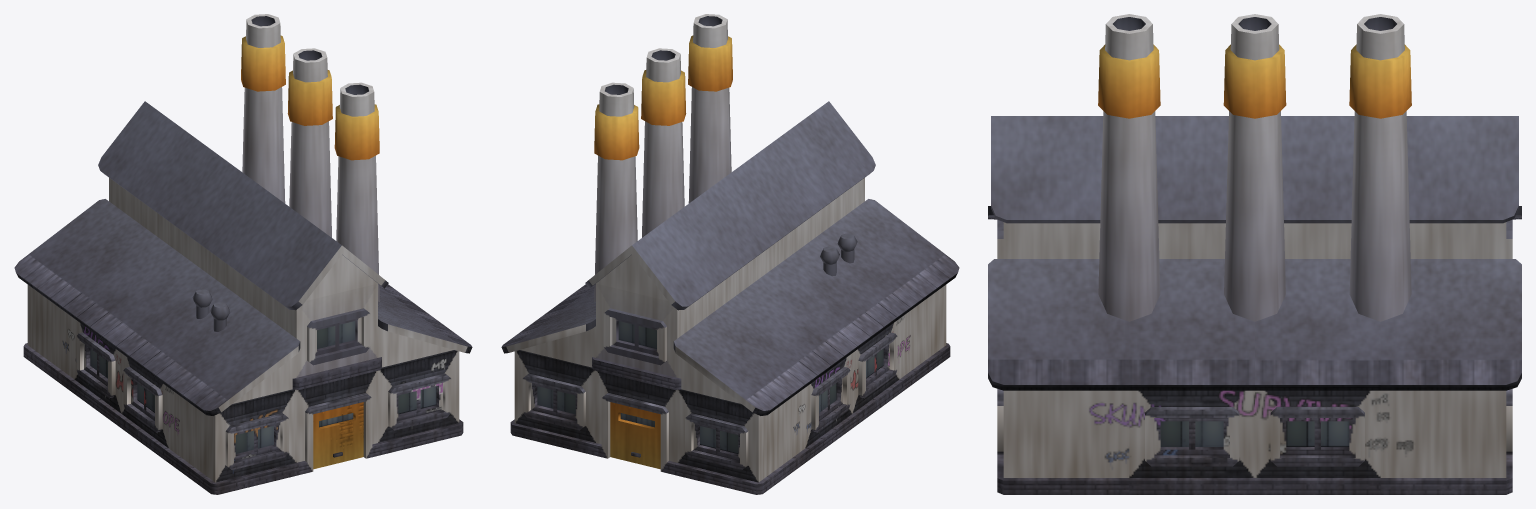
The model's file is building-m-white-scuffed.glb.
The picture shows the model from 3 angles, left to right: view 1: azimuth 30°, elevation 25°; view 2: azimuth 150°, elevation 25°; view 3: azimuth 270°, elevation 25°; orthographic projection. The views are drawn at different scales.
Visible parts, largest first — view 1: building-m; view 2: building-m; view 3: building-m.
Part boxes in pixels (<box>): building-m: <box>14,14,472,494</box>; building-m: <box>501,14,959,494</box>; building-m: <box>988,14,1521,494</box>.
Bounding box in the file's own units: 1.32 × 1.52 × 1.7.
1 material, 1 textured.
